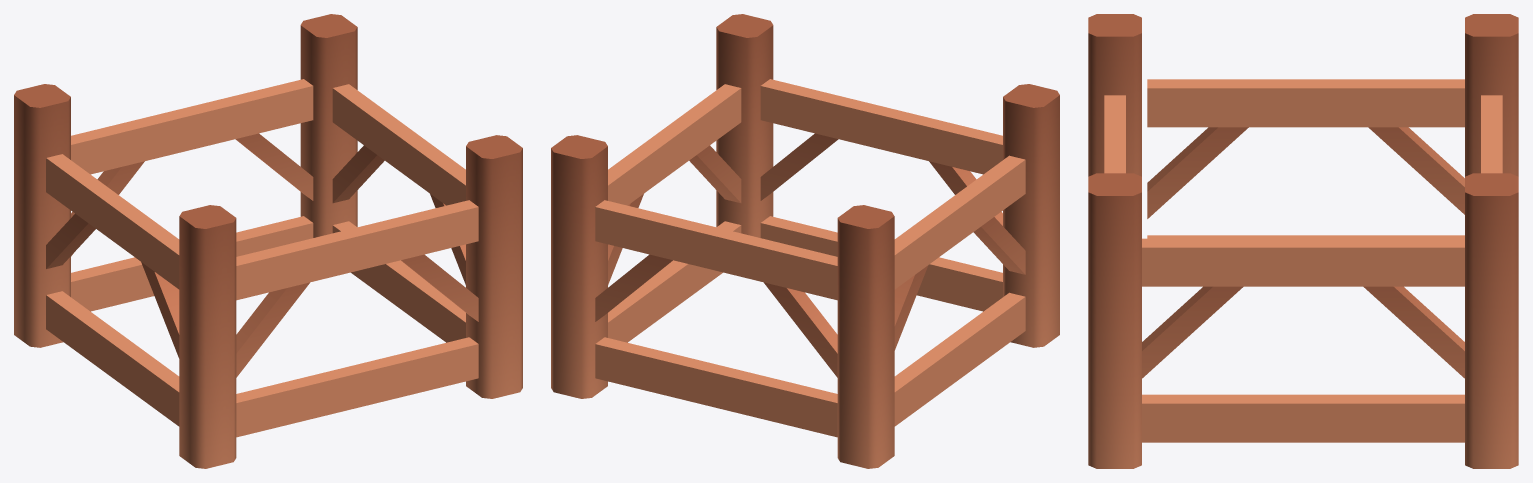
File: structure-wood.fbx
The picture shows the model from 3 angles, left to right: view 1: azimuth 30°, elevation 25°; view 2: azimuth 150°, elevation 25°; view 3: azimuth 270°, elevation 25°; orthographic projection. The views are drawn at different scales.
Parts seen in each view (by area): view 1: structure-wood; view 2: structure-wood; view 3: structure-wood.
Boxes of the visible parts, x1,y1,x2,y2 form: structure-wood: (14,14,522,468); structure-wood: (551,14,1059,468); structure-wood: (1088,14,1518,468).
Size of the model in its own units: 100 by 70 by 100.
Materials: 1 (1 with a texture image).
